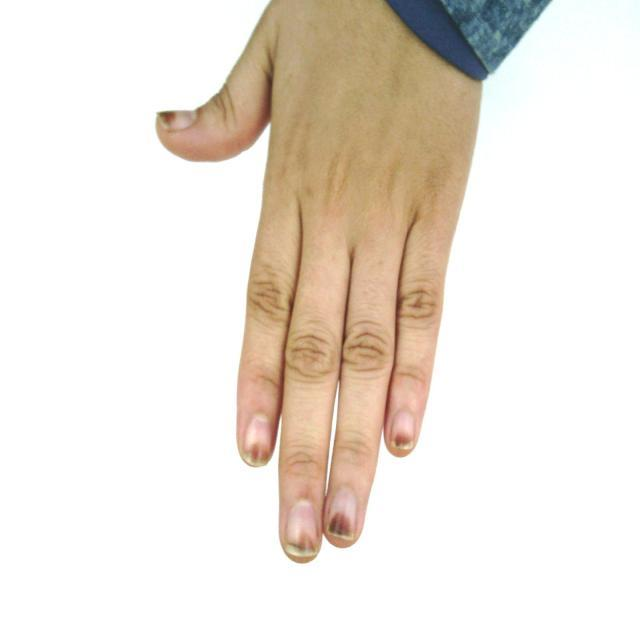Fingernail: (285, 501, 318, 560), (327, 488, 359, 542), (243, 417, 272, 466), (391, 411, 415, 447), (157, 111, 196, 131)
